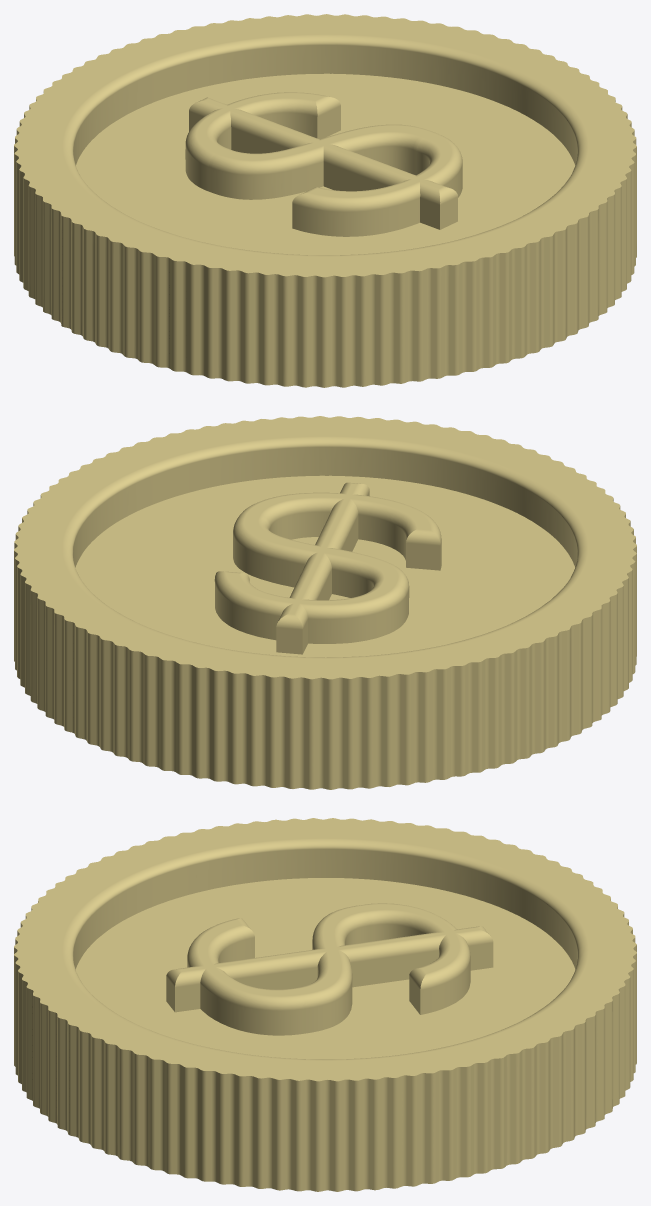
Rendered from coin-processed.glb.
The picture shows the model from 3 angles, top to bottom: view 1: azimuth 30°, elevation 25°; view 2: azimuth 150°, elevation 25°; view 3: azimuth 270°, elevation 25°; orthographic projection.
Parts seen in each view (by area): view 1: coin 01; view 2: coin 01; view 3: coin 01.
Boxes of the visible parts, x1,y1,x2,y2 form: coin 01: (14, 14, 636, 387); coin 01: (14, 416, 636, 789); coin 01: (14, 818, 636, 1191).
Bounding box in the file's own units: 2.87 × 0.5624 × 2.87.
